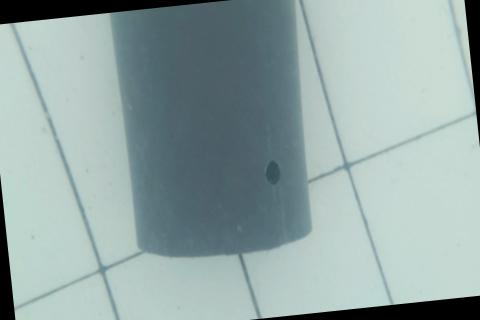kebocoran: (263, 159, 283, 187)
